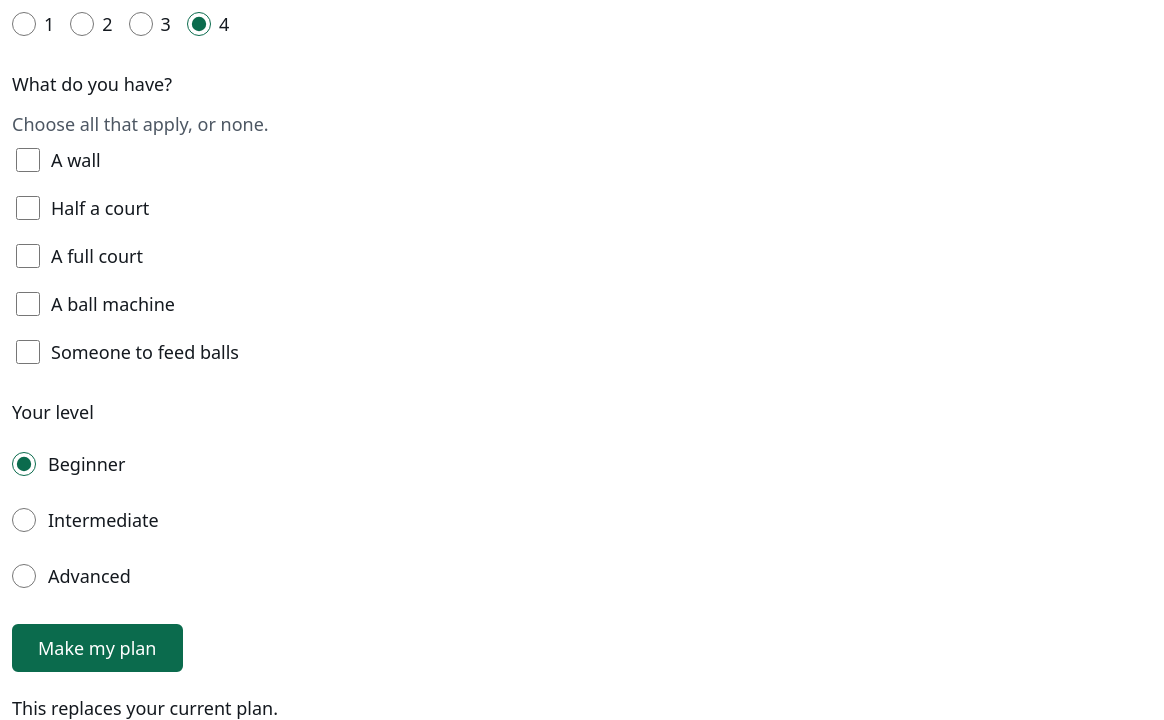
P-02 refusals keep the answers › 409 no_plan_fits on a regenerate visit says the current plan is unchanged
The image size is (1164, 720).
(page scrolled)
Click the button "Make my plan".
click(97, 648)  # box [12,624,182,672]
(page scrolled)
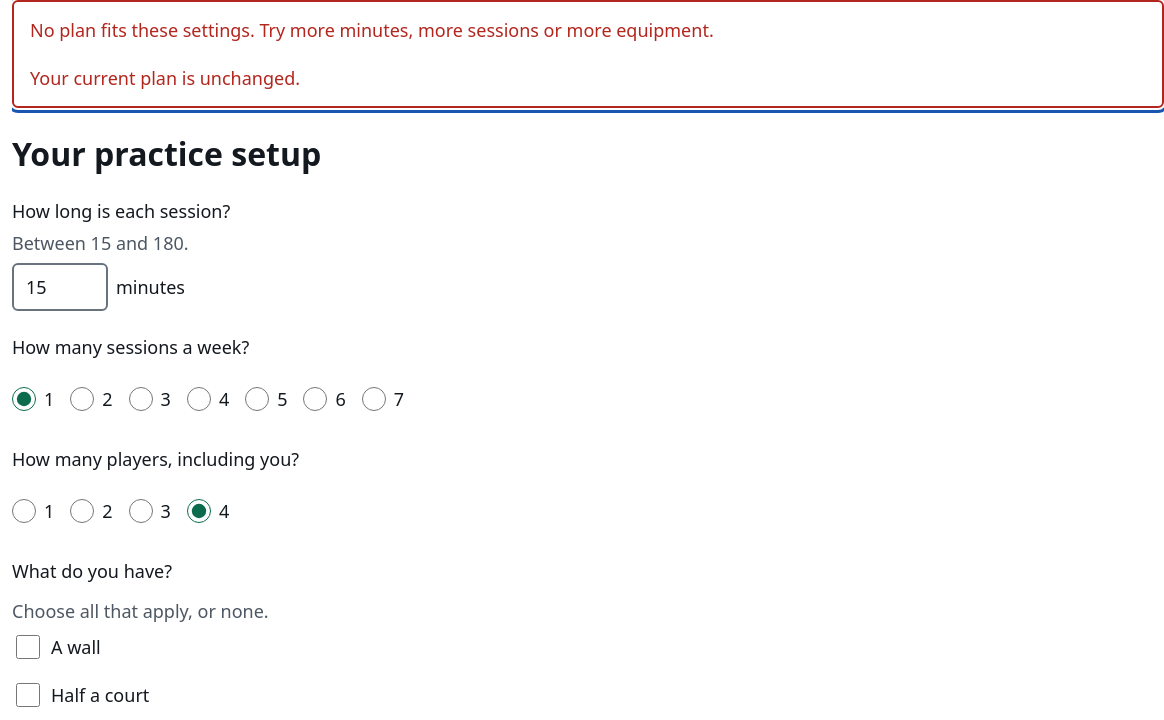
Expected: the message shows "No plan fits these settings. Try more minutes, more sessions or more equipment.", [30,18,714,42]
Expected: the message shows "Your current plan is unchanged.", [30,66,300,90]
